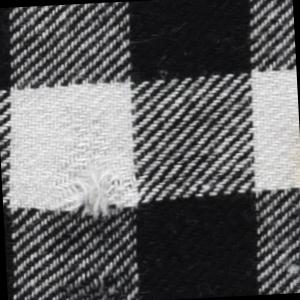Damage: (48, 117, 138, 230), (55, 266, 141, 300)
